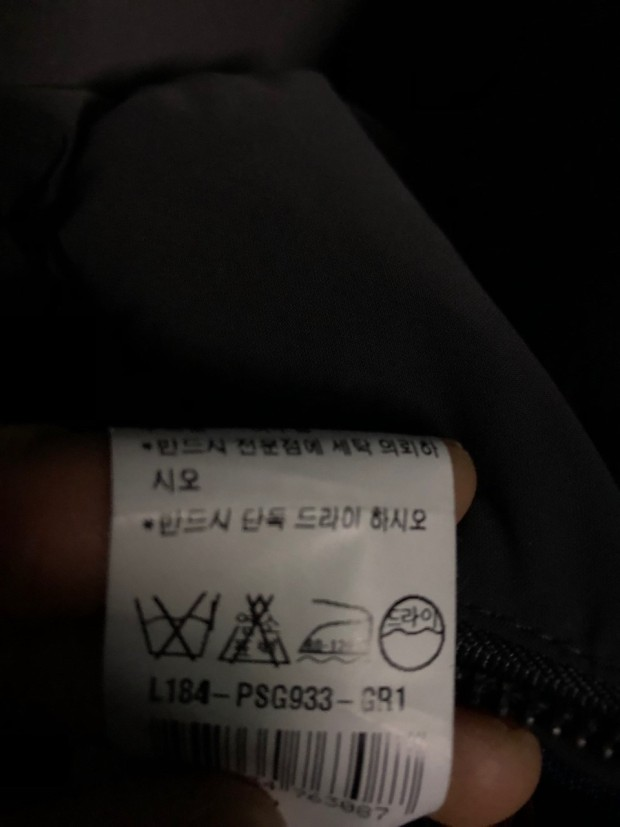KR_dry_clean: (378, 590, 446, 673)
KR_iron_low_temp_with_cloth: (294, 591, 377, 666)
KR_no_chlorine_bleach: (219, 588, 292, 672)
KR_no_wash: (135, 584, 216, 661)
